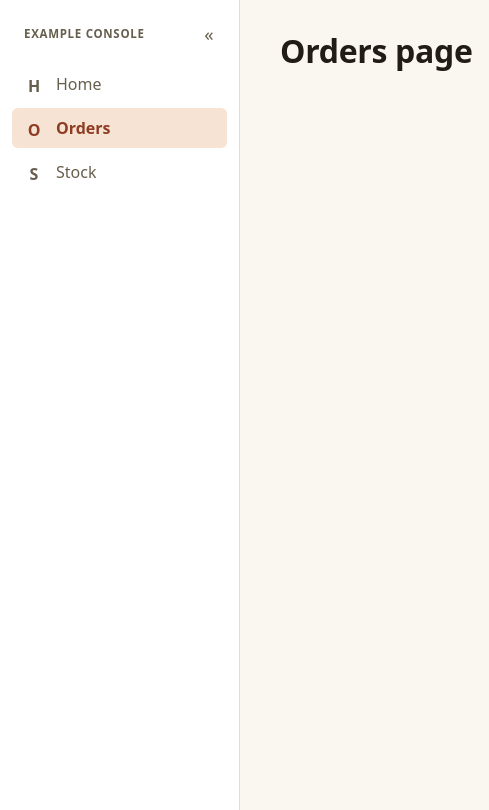
Test case: TS09 reusable side navigation › TS09 (happy): the collapse toggle turns the nav into an icon rail and back, every link keeping its name and a tooltip
This screenshot has width=489, height=810.
Click the button named "Collapse navigation": {"x": 209, "y": 34} left=191, top=16, right=227, bottom=52
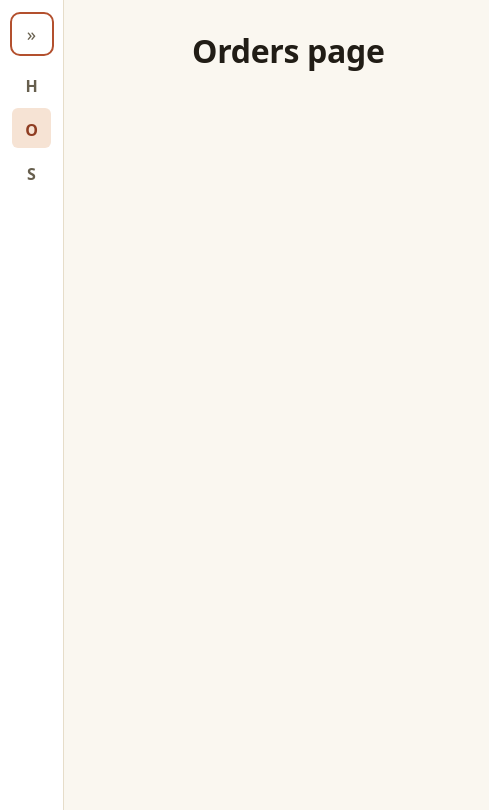
Result: the button named "Expand navigation" is collapsed
Click the button named "Expand navigation": {"x": 32, "y": 34} left=14, top=16, right=50, bottom=52
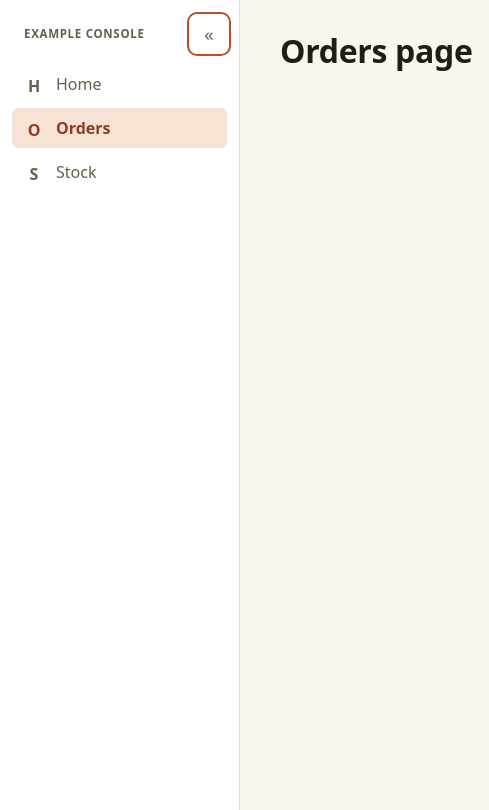
Result: the button named "Collapse navigation" is expanded at left=191, top=16, right=227, bottom=52
